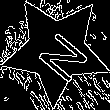N_NW: (25, 19, 87, 82)
